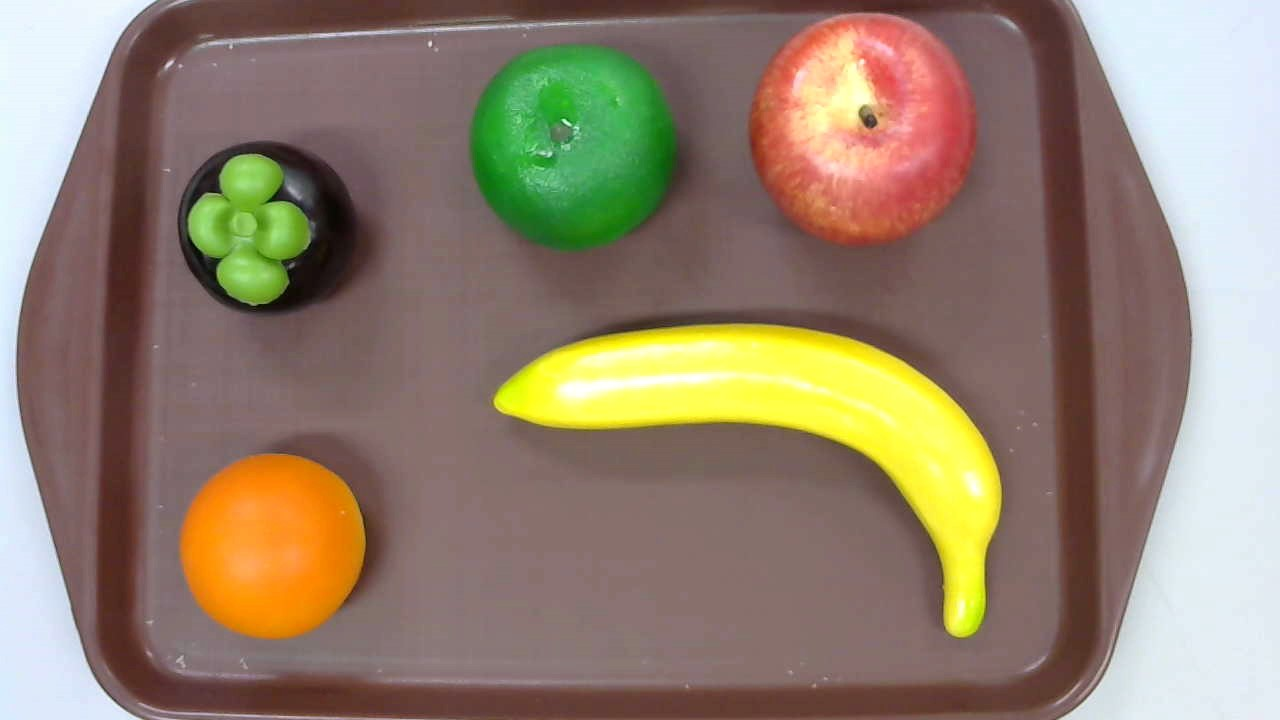banana: (491, 322, 1003, 638)
bun: (180, 453, 366, 640)
green orange: (469, 42, 676, 252)
mangosteen: (178, 141, 356, 317)
red apple: (749, 12, 976, 247)
